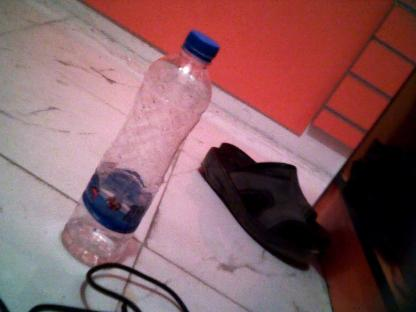Plastic Bottle: (61, 30, 220, 266)
